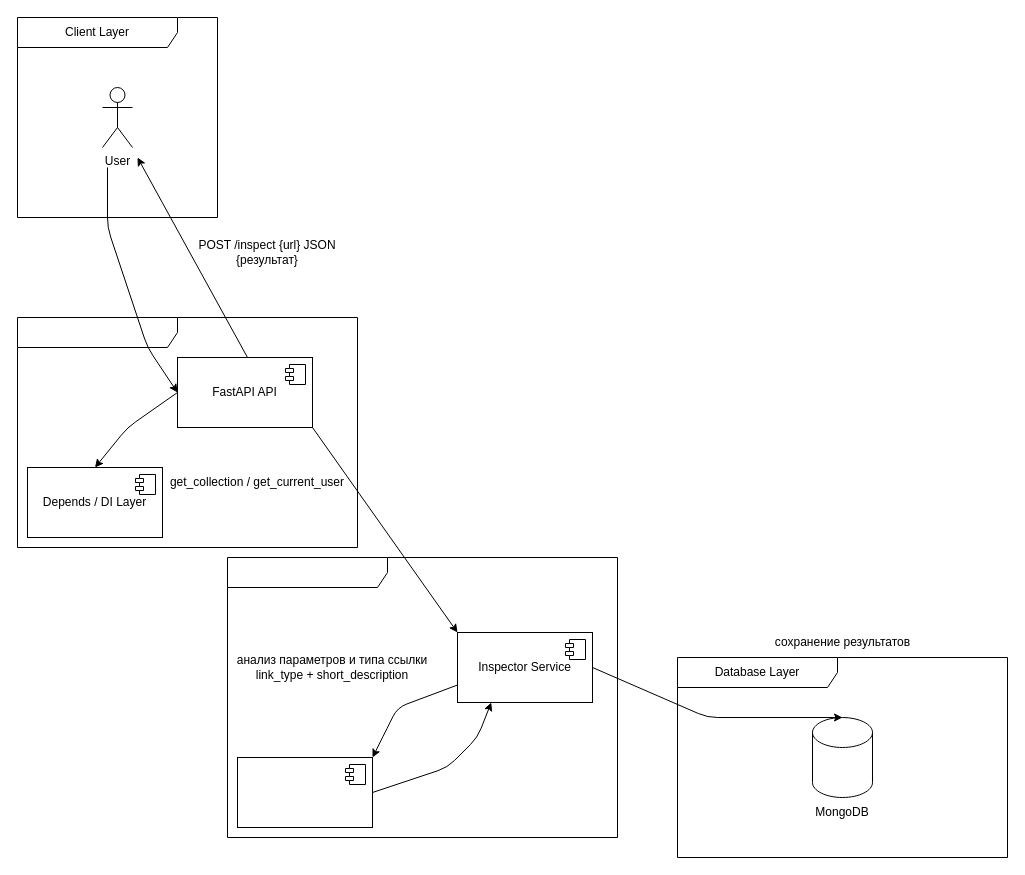
Image size: 1025x875. Some labels were removed from this diagram. The box of each missing label's shape, as (x1, y1, x2, y2) in pixels:
Analyzer: (236, 756, 372, 828)
API Layer: (16, 316, 358, 548)
Services: (226, 556, 618, 838)
